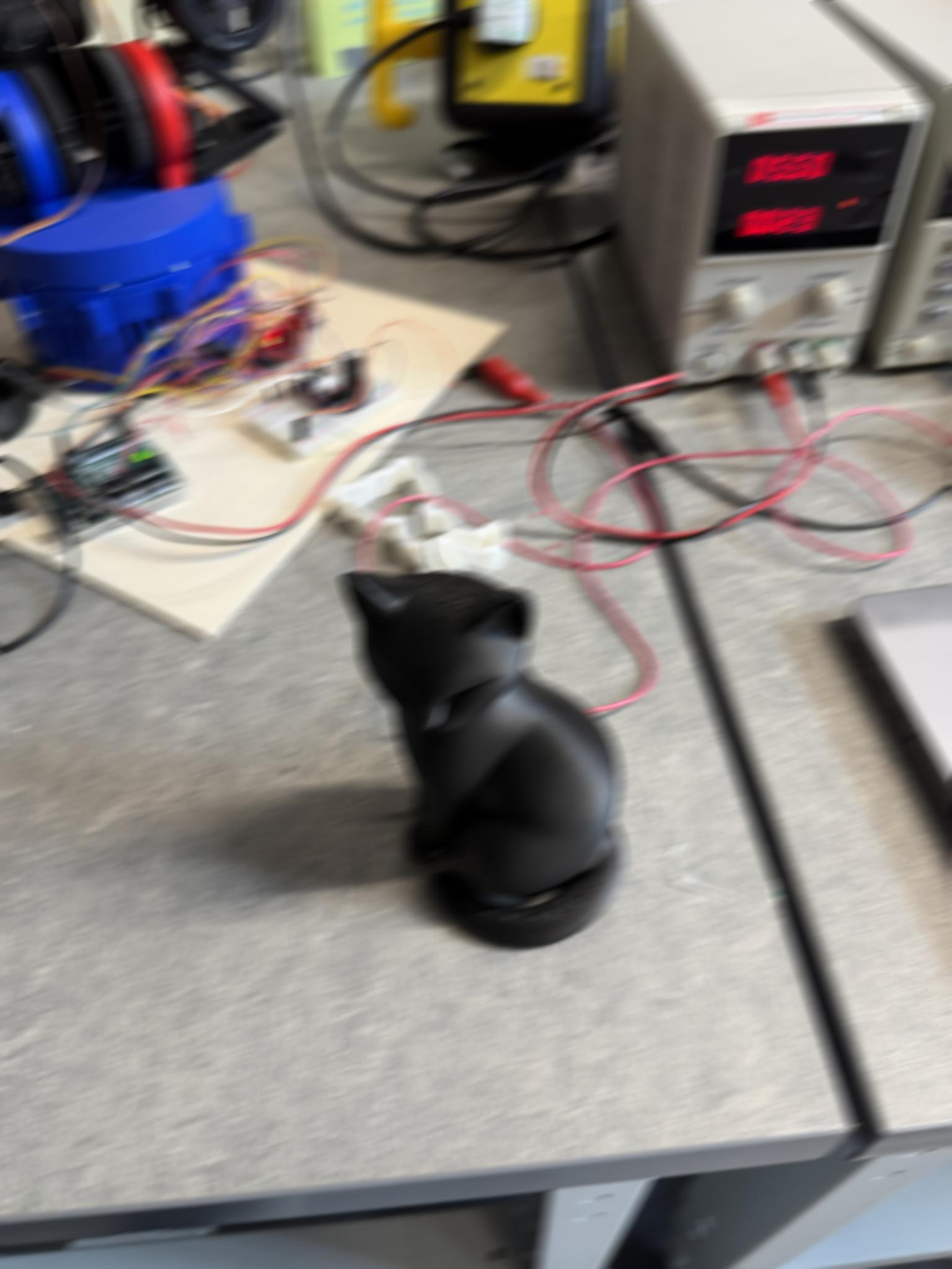cat: (340, 571, 625, 947), (323, 580, 582, 963), (530, 579, 608, 698), (604, 800, 645, 930)
